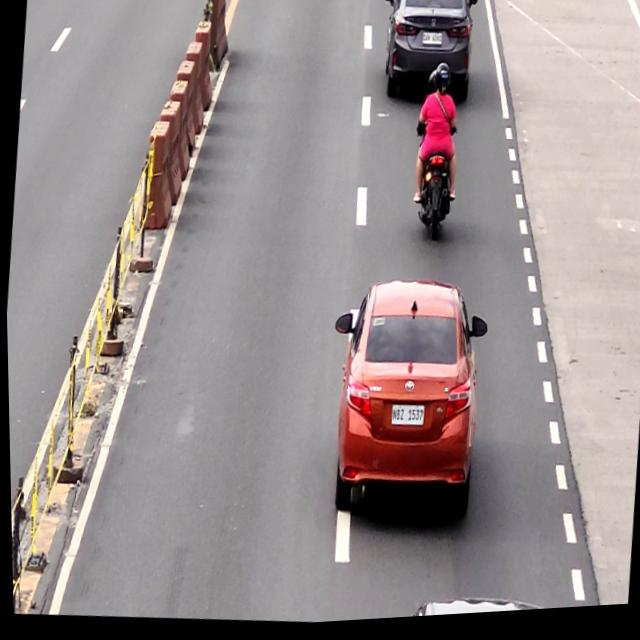Car: (316, 274, 494, 533), (375, 0, 481, 112)
License-Plate: (388, 406, 423, 432), (420, 34, 443, 52)
Motorcycle: (405, 113, 463, 251)
